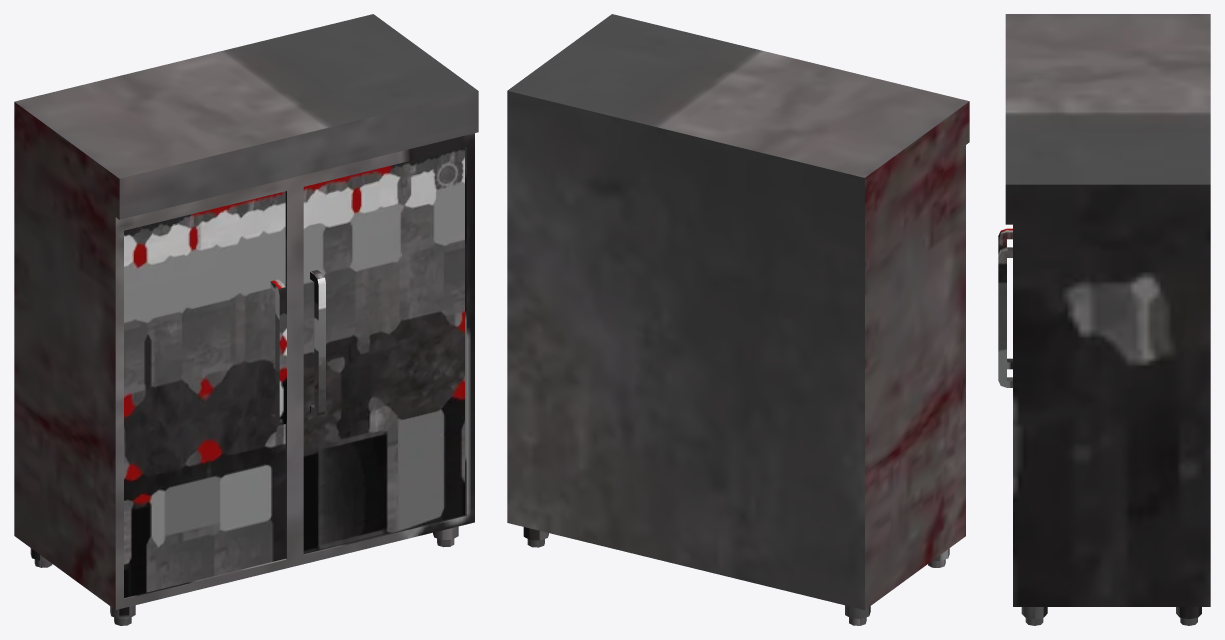
File: walk-in.glb
The picture shows the model from 3 angles, left to right: view 1: azimuth 30°, elevation 25°; view 2: azimuth 150°, elevation 25°; view 3: azimuth 270°, elevation 25°; orthographic projection. The views are drawn at different scales.
Visible parts, largest first — view 1: SM_Fridge_Kitchen_0; view 2: SM_Fridge_Kitchen_0; view 3: SM_Fridge_Kitchen_0.
Boxes of the visible parts, <box> form: SM_Fridge_Kitchen_0: <box>14,14,478,625</box>; SM_Fridge_Kitchen_0: <box>507,14,969,625</box>; SM_Fridge_Kitchen_0: <box>998,14,1210,625</box>.
Bounding box in the file's own units: 1.6 × 1.95 × 0.84.
Materials: 1 (1 with a texture image).
